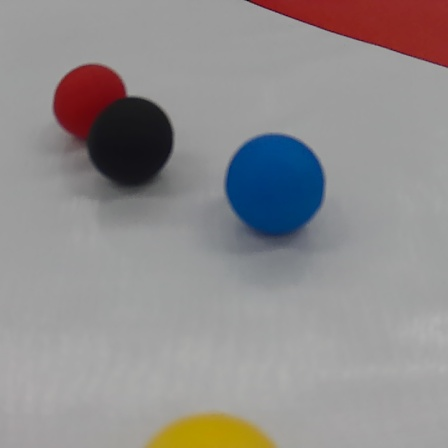black: (89, 96, 174, 188)
blue: (223, 131, 328, 236)
red: (50, 58, 131, 142)
red_base: (244, 1, 445, 66)
yellow: (143, 410, 279, 448)
